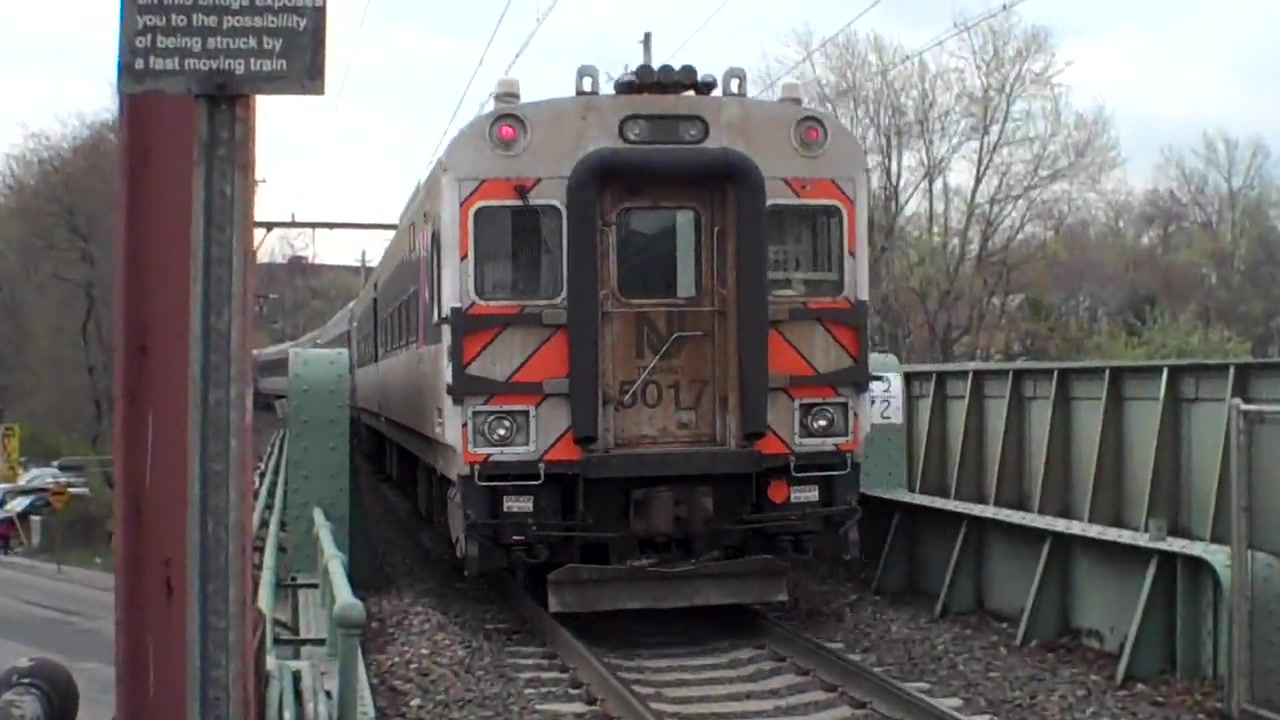train: (253, 35, 890, 616)
